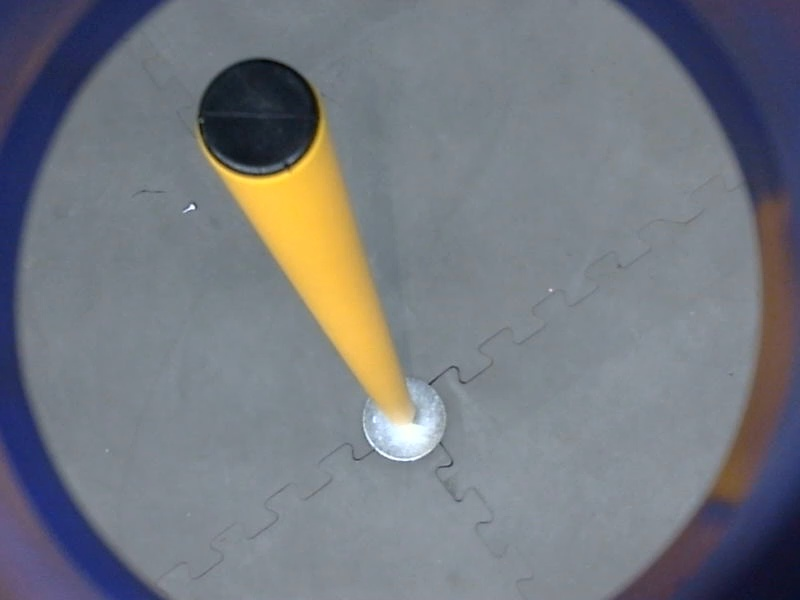tip: (193, 51, 332, 189)
